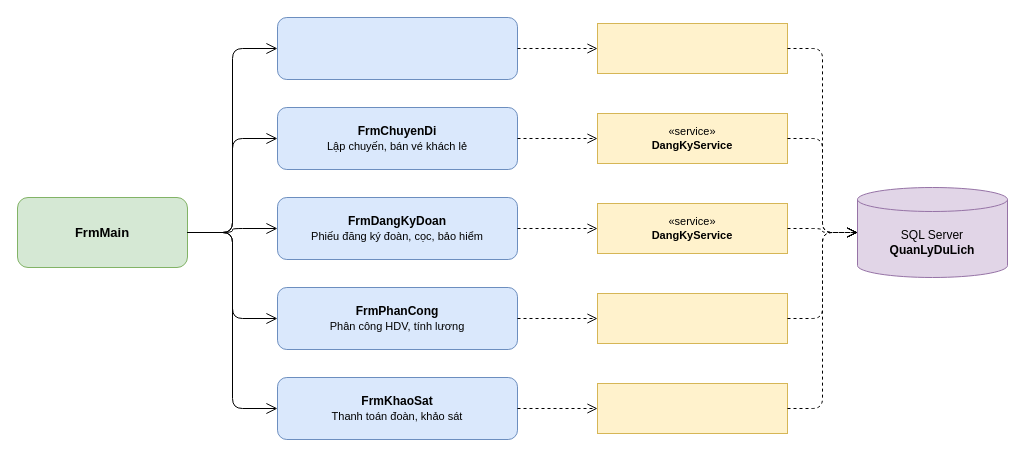
This 1025x457 diagram has some shape labels left out. Each missing label, with the centre of its shape:
FrmTour Tour, nơi dừng chân, phương tiện, điểm tham quan: point 397,48
«service» KhaoSatService: point 692,408
«service» PhanCongService: point 692,318
«service» TourService: point 692,48
